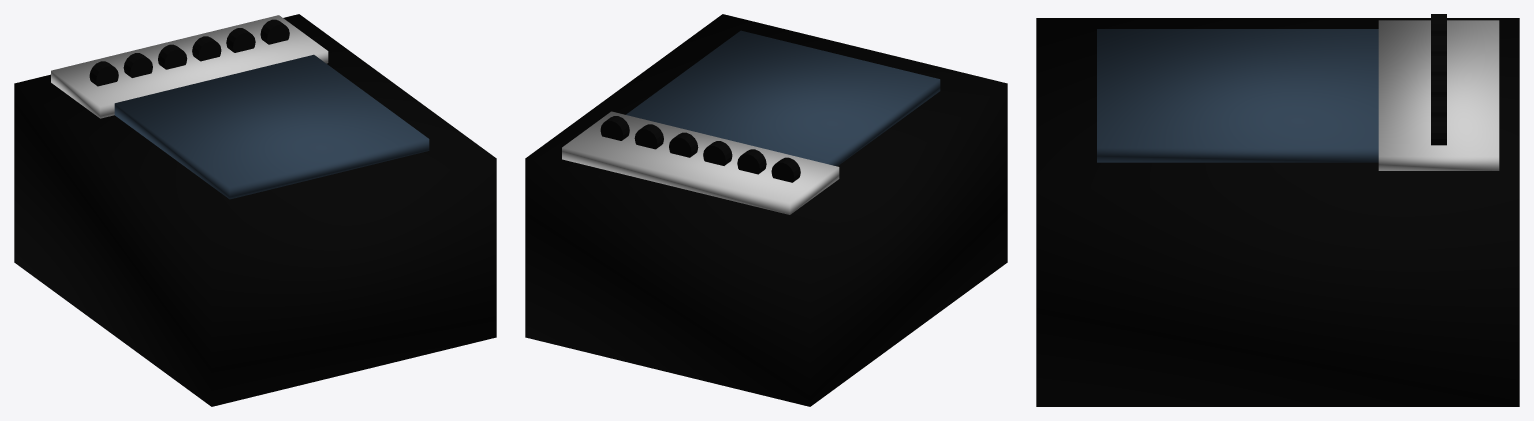
The model's file is marshall_stack.obj.
3 views of the same model, side by side, from view 1: azimuth 30°, elevation 25°; view 2: azimuth 150°, elevation 25°; view 3: azimuth 270°, elevation 25° (orthographic). The views are drawn at different scales.
Visible parts, largest first — view 1: Amp_Cabinet_Cube.054; view 2: Amp_Cabinet_Cube.054; view 3: Amp_Cabinet_Cube.054.
Part boxes in pixels (bbox=[...]): Amp_Cabinet_Cube.054: bbox=[14, 14, 496, 406]; Amp_Cabinet_Cube.054: bbox=[525, 14, 1007, 406]; Amp_Cabinet_Cube.054: bbox=[1036, 14, 1519, 406].
Bounding box in the file's own units: 0.5 × 0.35 × 0.6.
